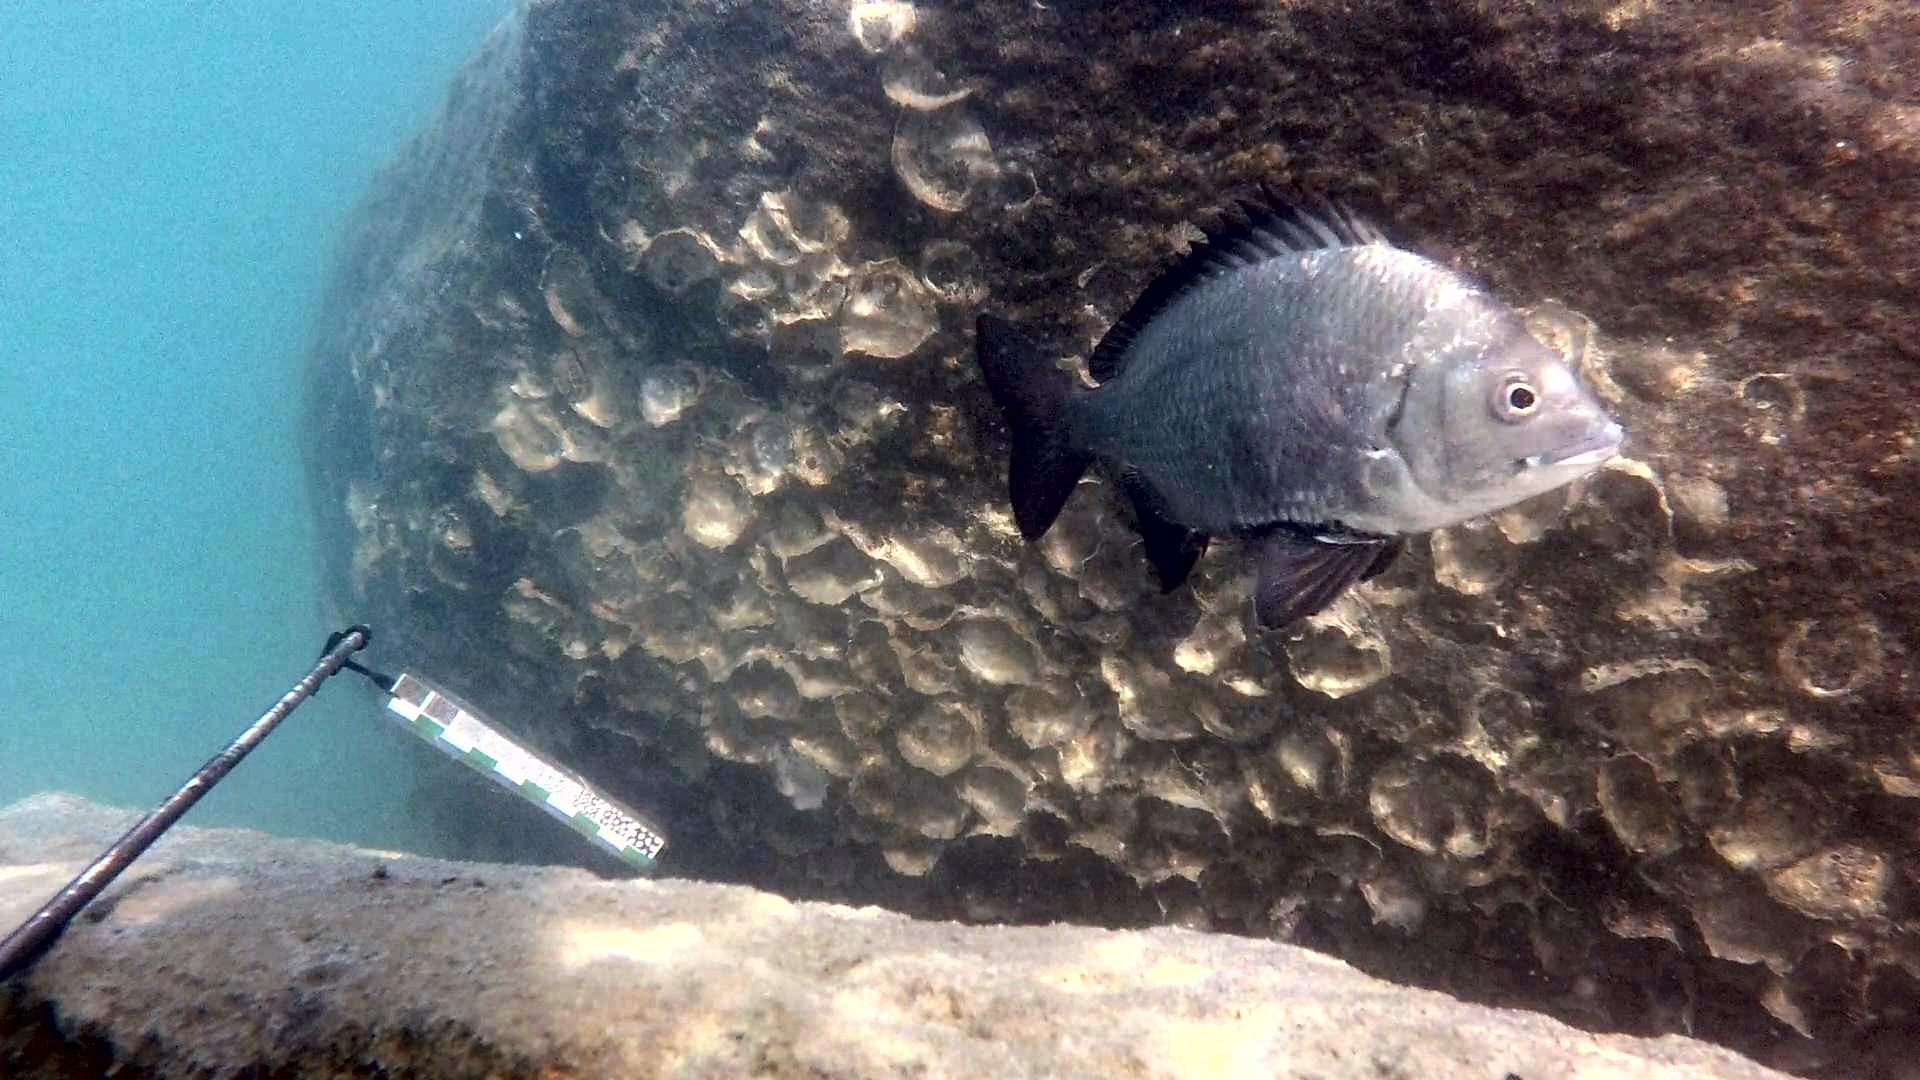acanthopagrus palmaris: (965, 174, 1634, 642)
